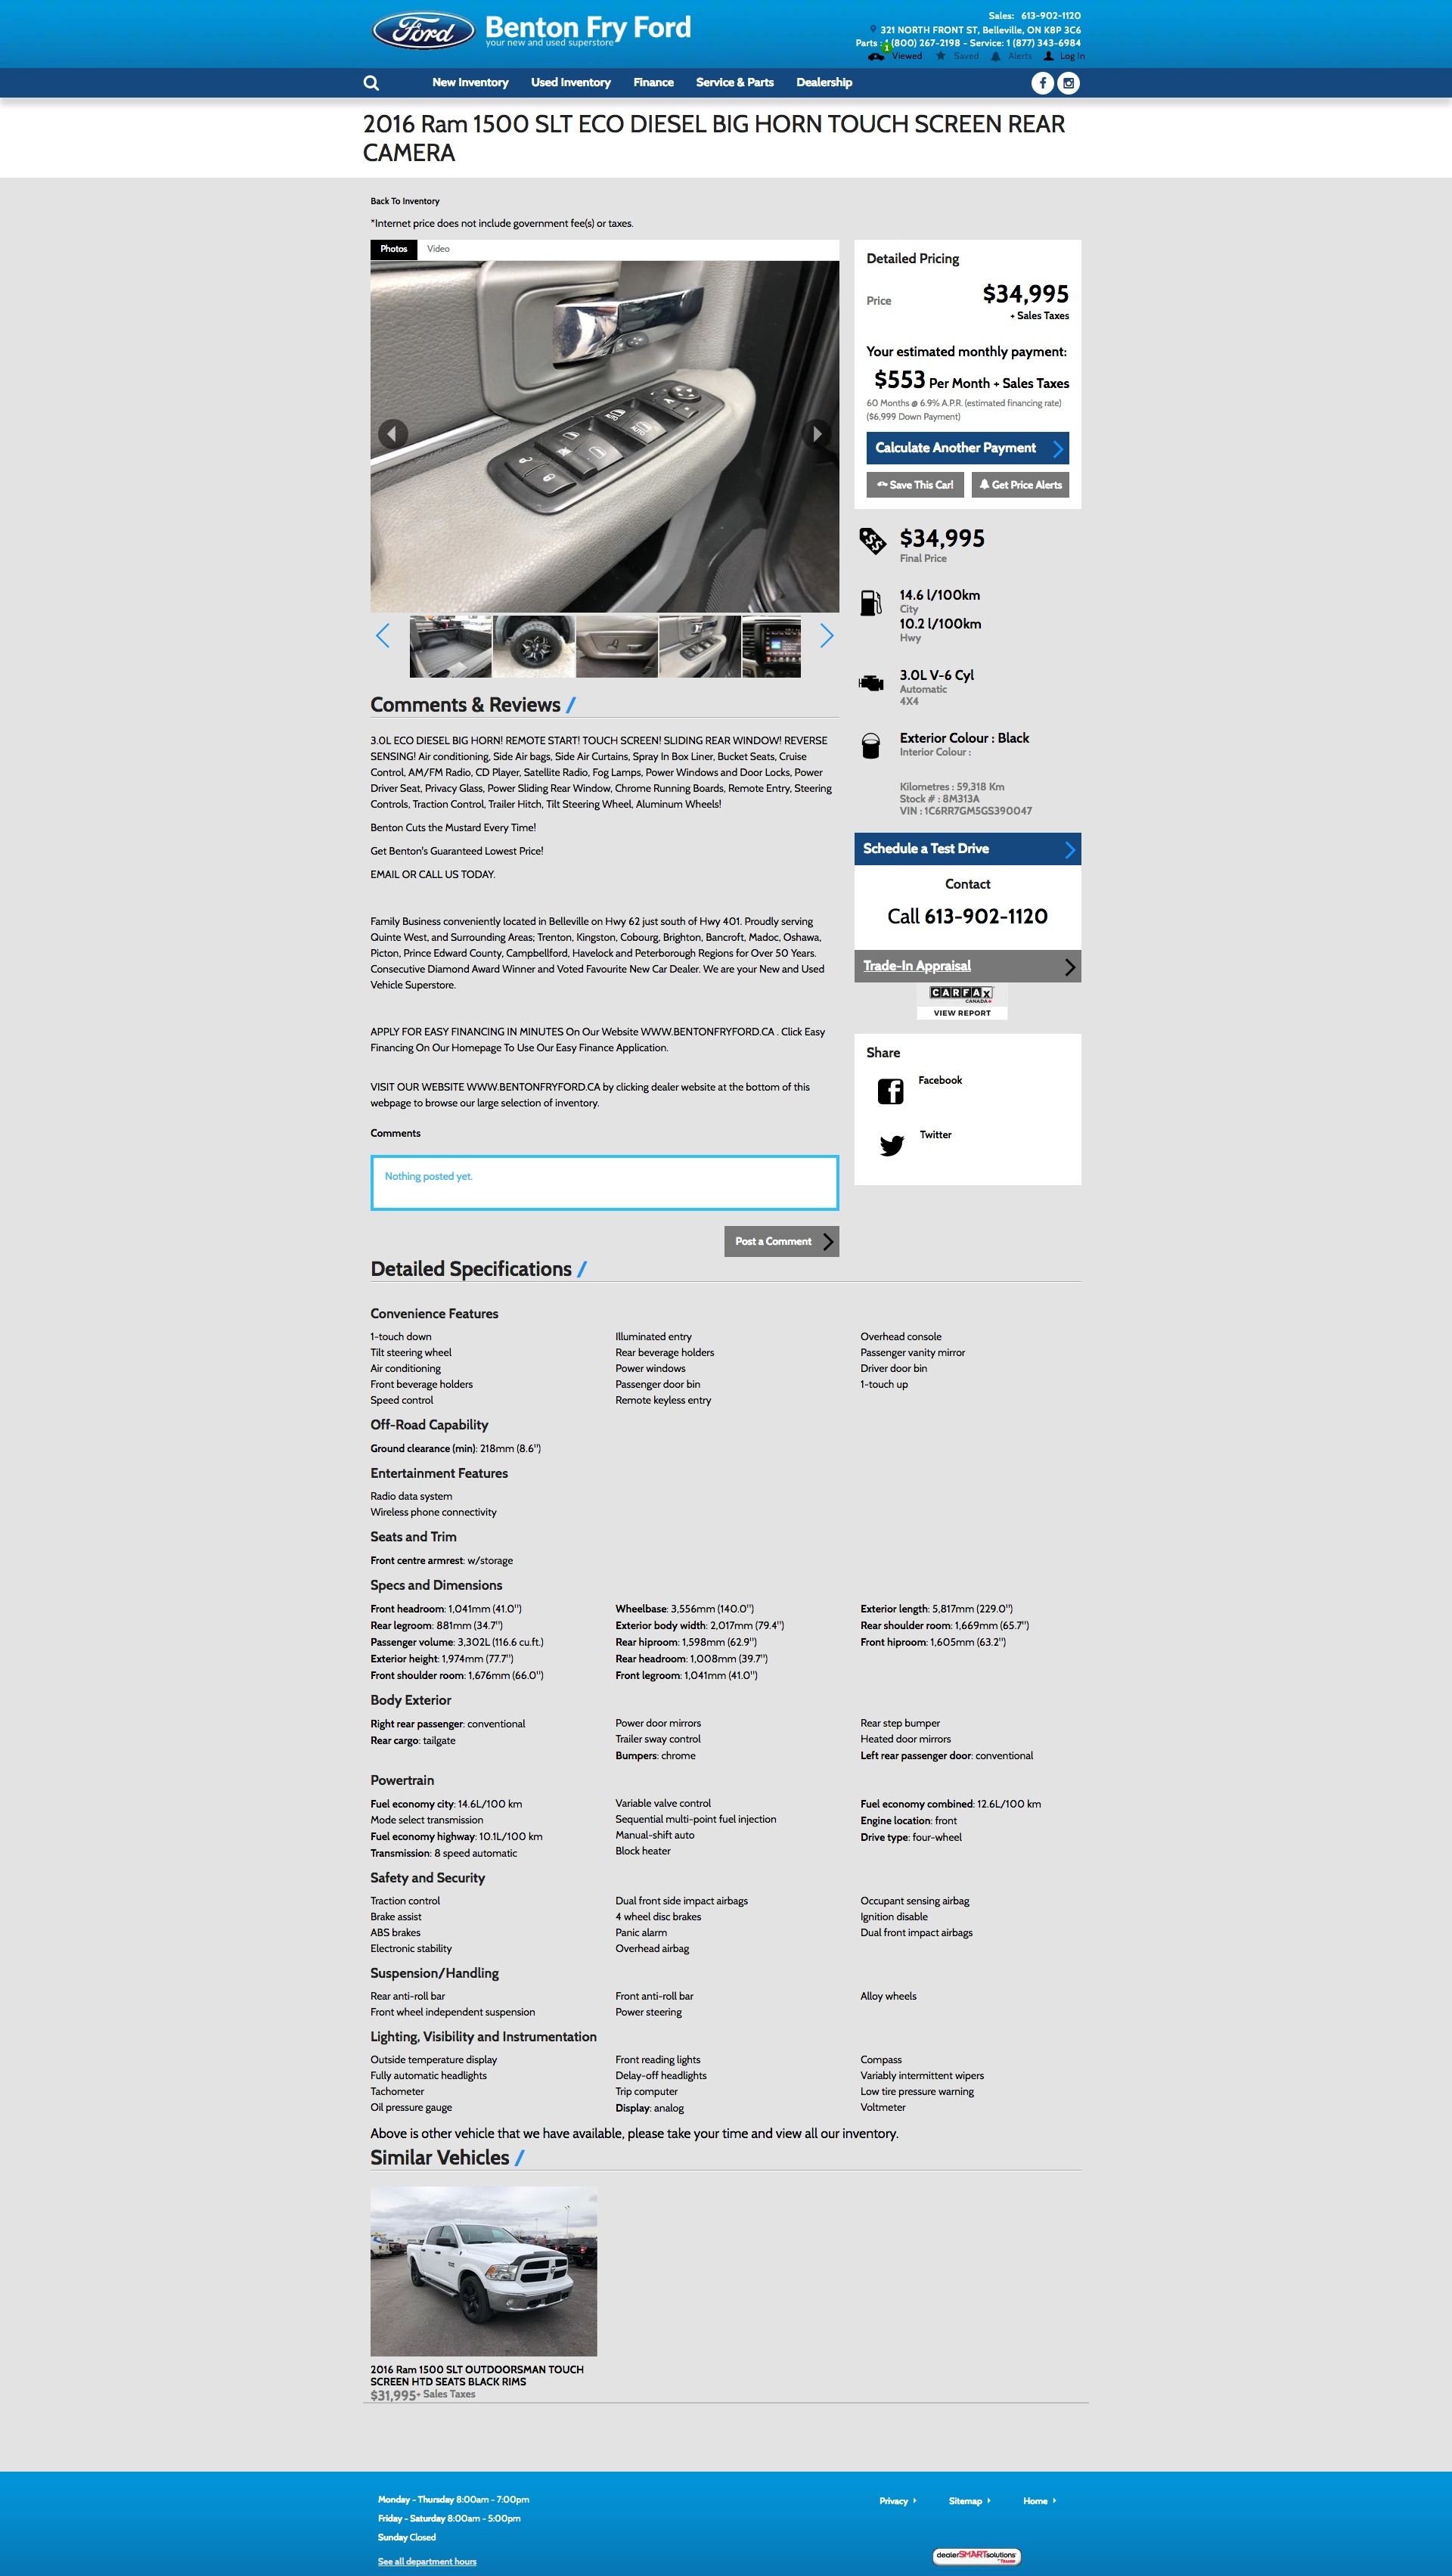car: (817, 623, 837, 649)
